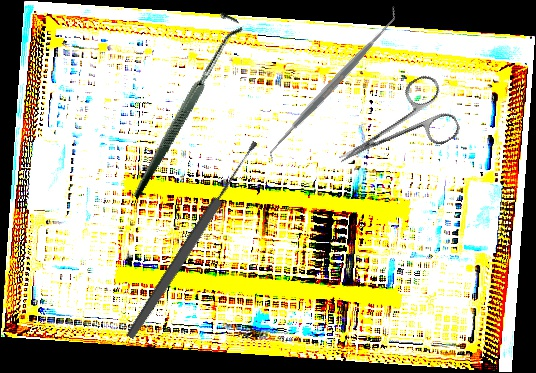Hook Surgical: (76, 7, 290, 200)
Iris Scissors: (322, 71, 464, 189)
Spatula Surgical: (257, 4, 409, 164)
Surgical Spoon: (123, 138, 263, 342)
